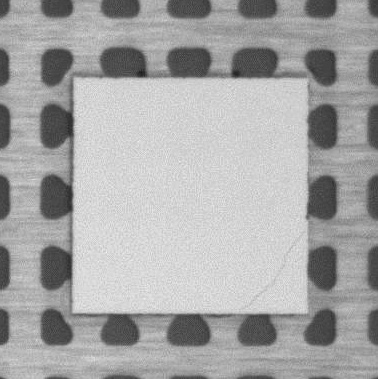DIE_CRACK: (239, 230, 305, 310)
